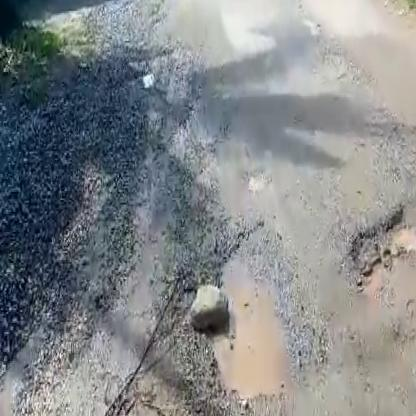pothole: (185, 266, 313, 410), (349, 204, 416, 297)
